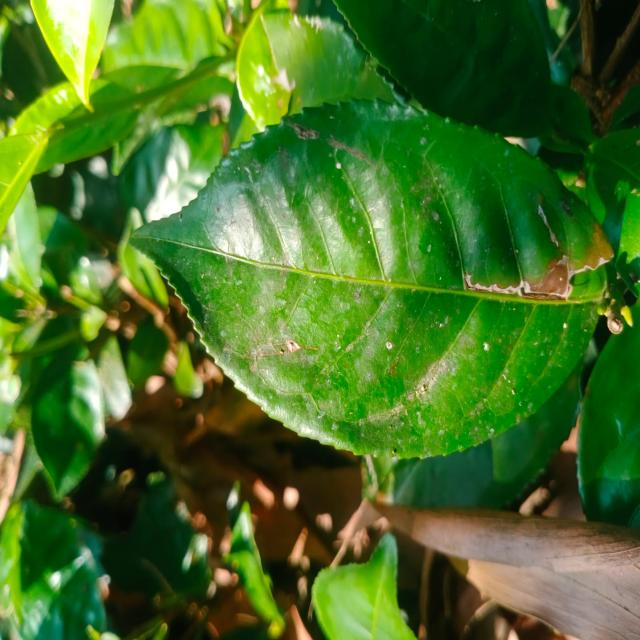Category D(7+ days, Not for Tea): (94, 83, 640, 473)
